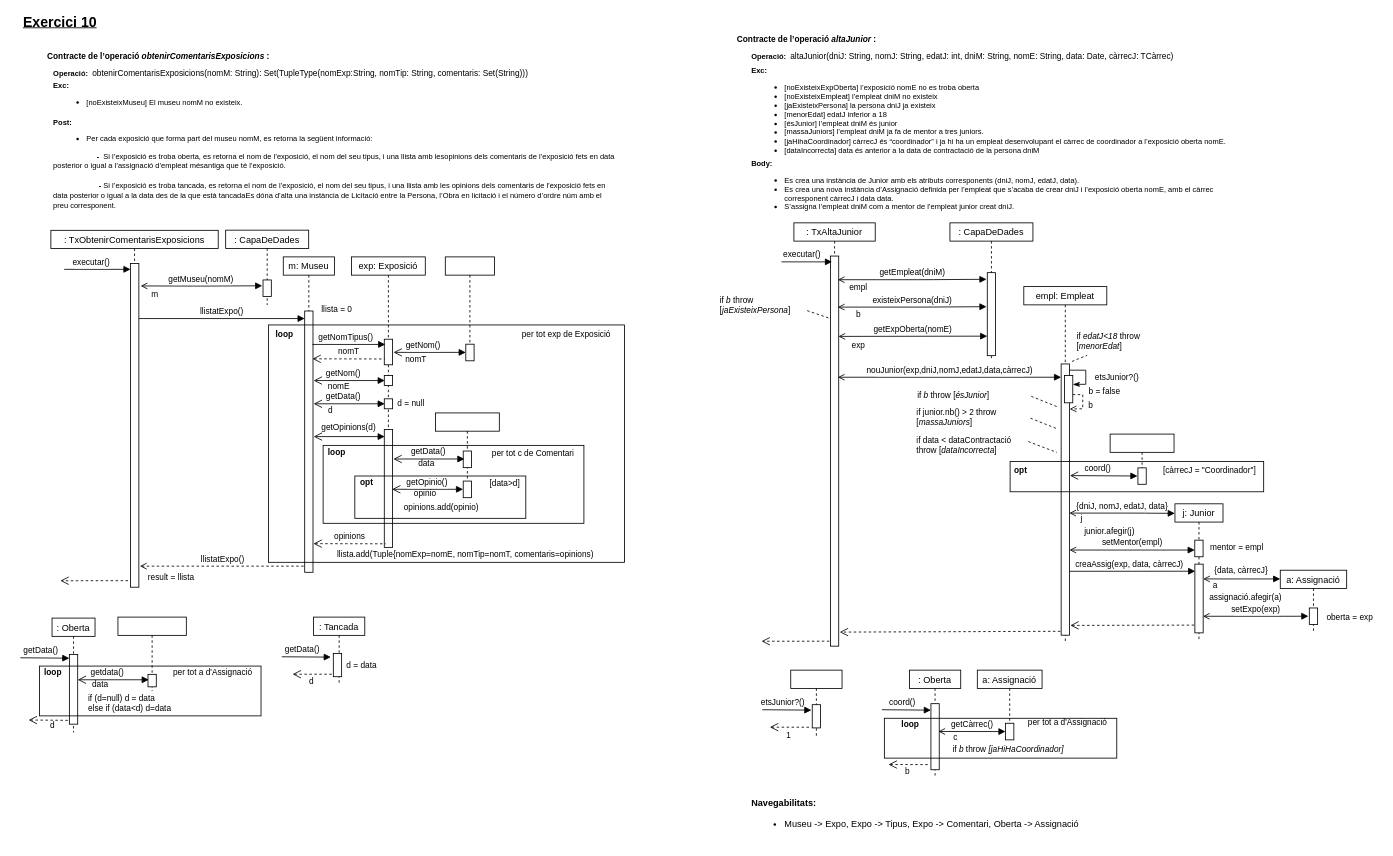
Some shapes in this 1393 by 856 pixel diagram are drawn without their labels. The centre of each missing label's shape, as x and y in pixels:
": Junior" belongs at [816,703].
"a: Assignacio" belongs at [151,653].
"c: Comentari" belongs at [467,454].
"exp: Oberta" belongs at [1141,457].
"t: Tipus" belongs at [469,302].
